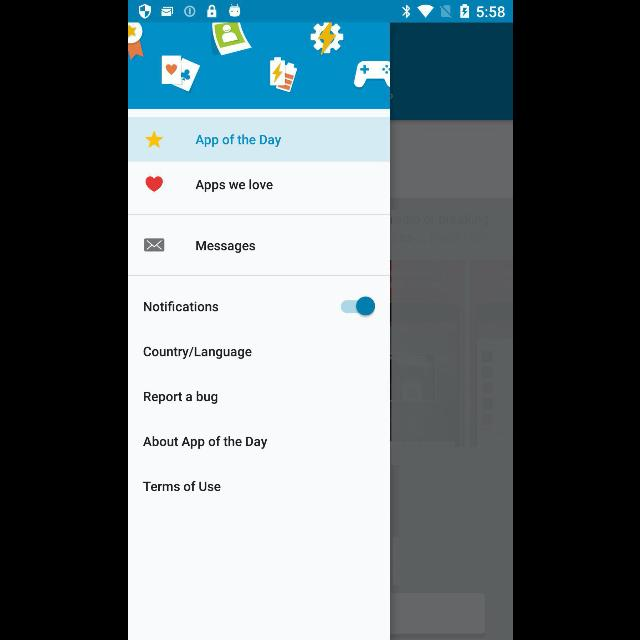icon: (145, 131, 163, 149), (145, 176, 163, 192), (144, 238, 164, 252)
panel: (127, 24, 389, 638)
switch: (340, 296, 374, 316)
text: (142, 436, 266, 448), (142, 346, 252, 359), (194, 134, 280, 148), (143, 391, 217, 405), (194, 180, 272, 192), (142, 300, 218, 312), (142, 481, 220, 492), (195, 240, 255, 253)
uppertaskbar: (128, 1, 512, 23)
